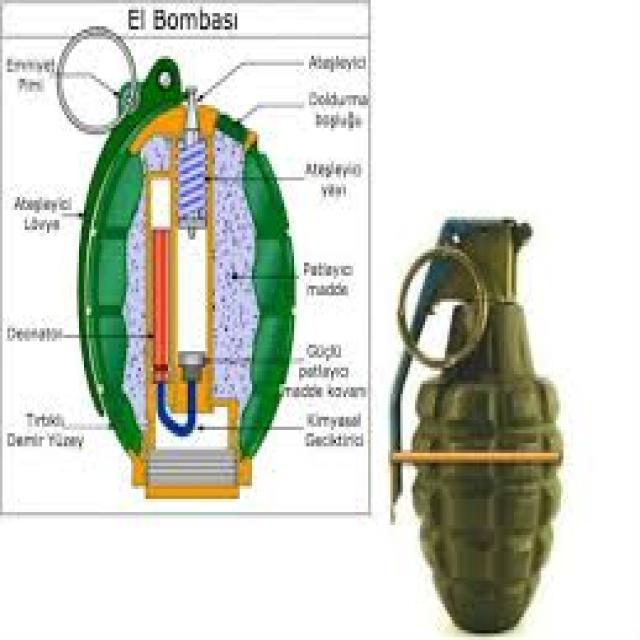grenade: (380, 207, 575, 633)
